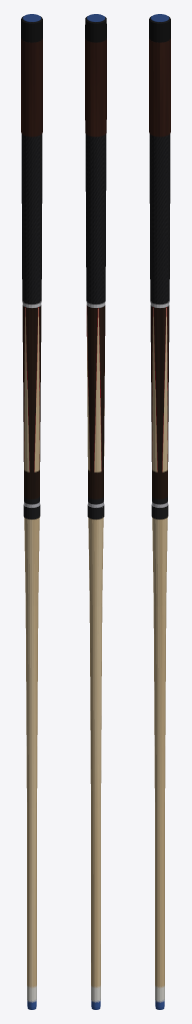
File: cue.obj
The picture shows the model from 3 angles, left to right: view 1: azimuth 90°, elevation 25°; view 2: azimuth 150°, elevation 25°; view 3: azimuth 270°, elevation 25°; orthographic projection.
Bounding box in the file's own units: 0.03 × 1.47 × 0.03.
1 material, 1 textured.
